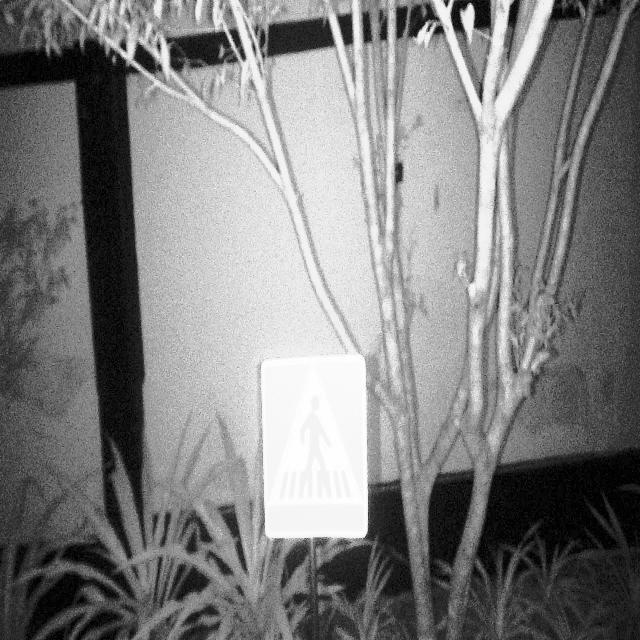Sign: (260, 352, 370, 542)
